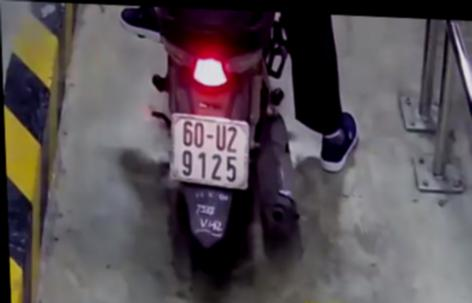License_Plate: (166, 107, 255, 197)
